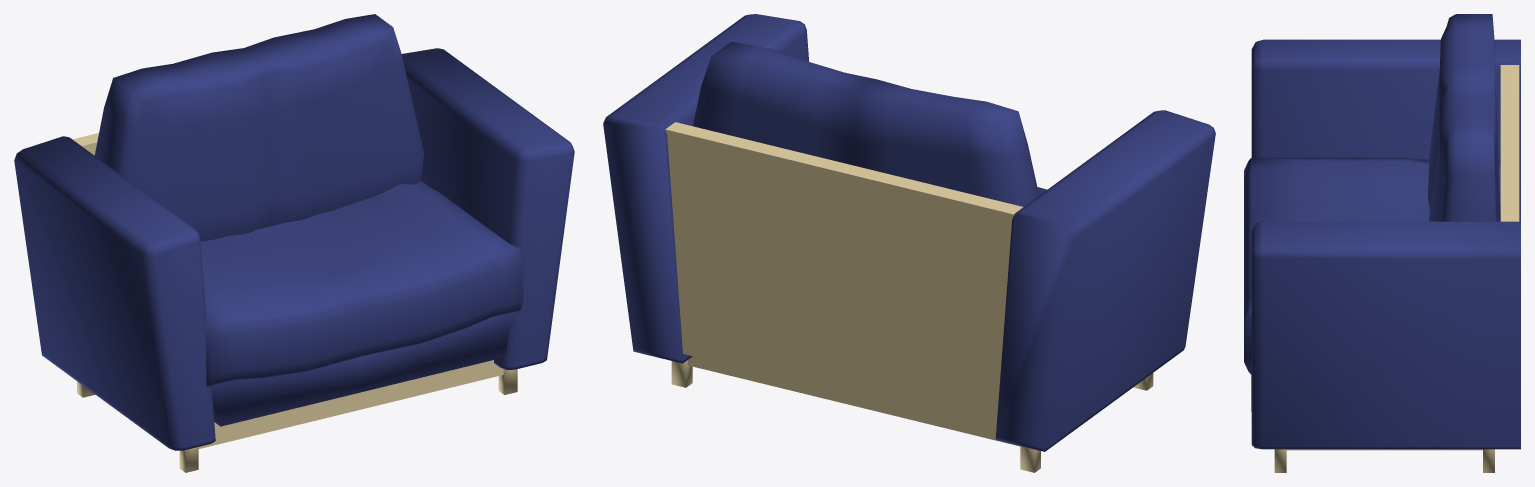
The model's file is Couch.glb.
3 views of the same model, side by side, from view 1: azimuth 30°, elevation 25°; view 2: azimuth 150°, elevation 25°; view 3: azimuth 270°, elevation 25° (orthographic). The views are drawn at different scales.
Visible parts, largest first — view 1: Cube.002; view 2: Cube.002; view 3: Cube.002.
Part boxes in pixels (x1,y1,x2,y2): Cube.002: (14, 14, 574, 472); Cube.002: (603, 14, 1215, 472); Cube.002: (1244, 14, 1520, 472).
Bounding box in the file's own units: 1.9 × 1.3 × 1.04.
